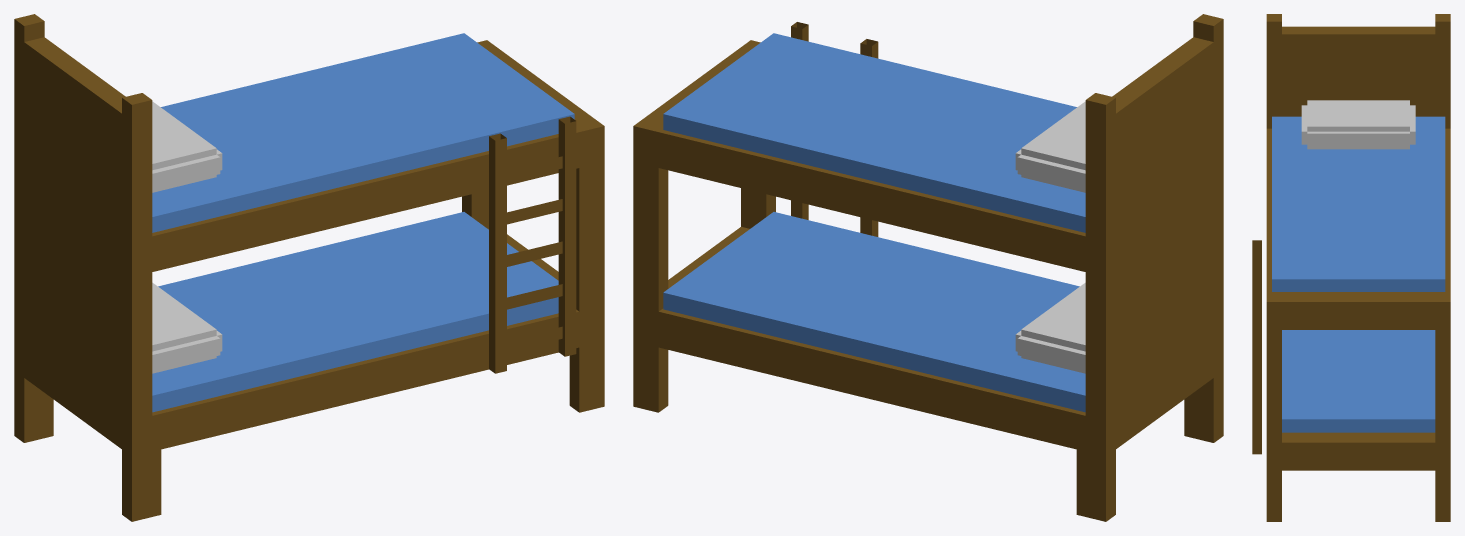
File: bunkBed.fbx
3 renders of one model, left to right at view 1: azimuth 30°, elevation 25°; view 2: azimuth 150°, elevation 25°; view 3: azimuth 270°, elevation 25°, orthographic. The views are drawn at different scales.
Visible parts, largest first — view 1: bunkBed, pillow2, pillow1; view 2: bunkBed, pillow2, pillow1; view 3: bunkBed, pillow2.
Part boxes in pixels (x1,y1,x2,y2): bunkBed: (14,14,604,521); pillow2: (152,101,222,192); pillow1: (152,282,222,373); bunkBed: (633,14,1223,521); pillow2: (1015,101,1085,192); pillow1: (1015,282,1085,373); bunkBed: (1252,14,1450,521); pillow2: (1301,100,1415,149).
Bounding box in the file's own units: 581 × 490 × 269.
